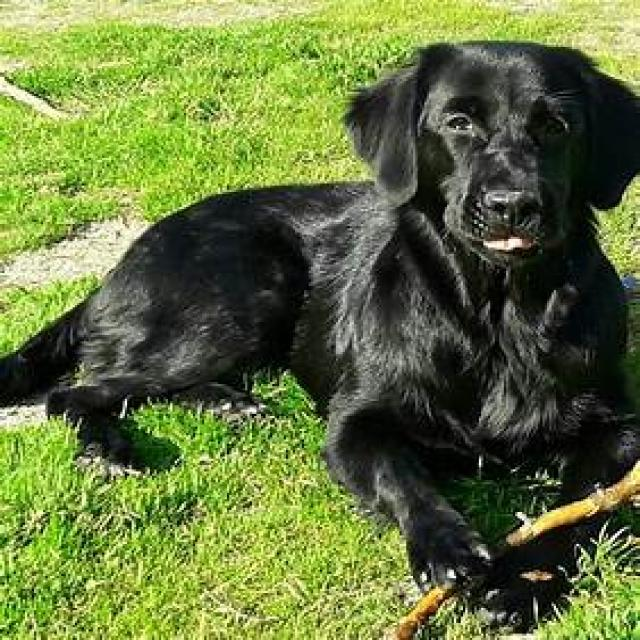dog: (3, 42, 638, 583)
